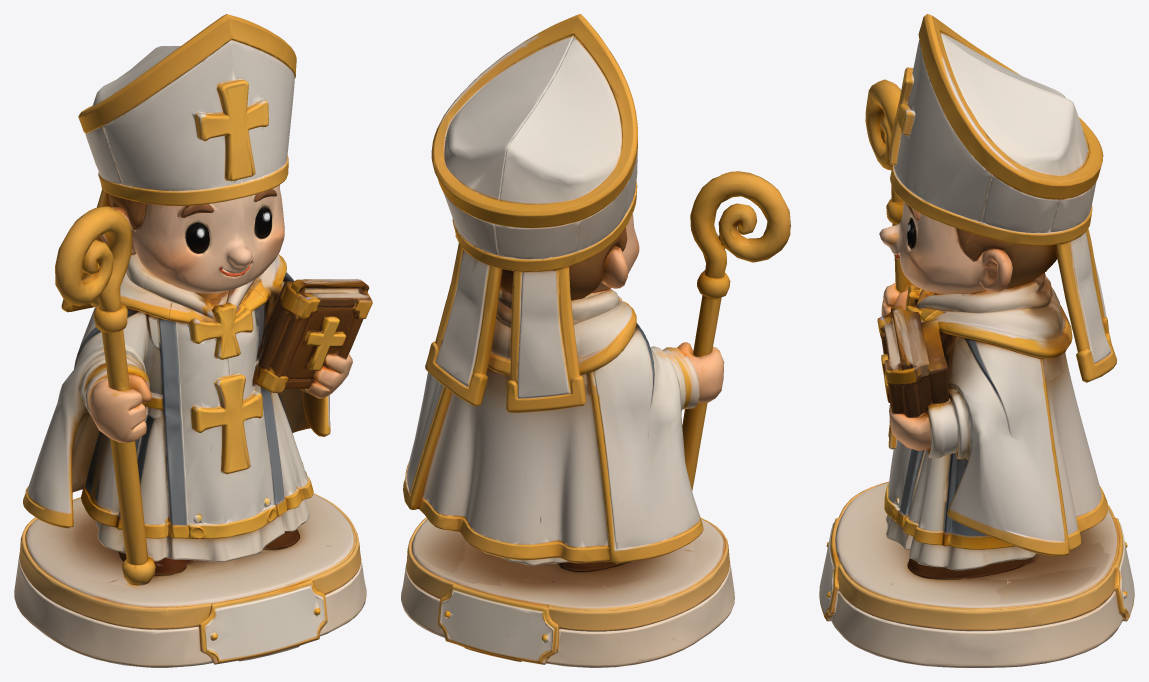
Rendered from child-crusader-b-mobile50.glb.
3 renders of one model, left to right at view 1: azimuth 30°, elevation 25°; view 2: azimuth 150°, elevation 25°; view 3: azimuth 270°, elevation 25°, orthographic. The views are drawn at different scales.
Parts seen in each view (by area): view 1: node_0; view 2: node_0; view 3: node_0.
Part boxes in pixels (x1,y1,x2,y2): node_0: (14,14,372,667); node_0: (401,14,790,667); node_0: (819,14,1134,667).
Size of the model in its own units: 0.6059 by 1.04 by 0.504.
Materials: 1 (1 with a texture image).
